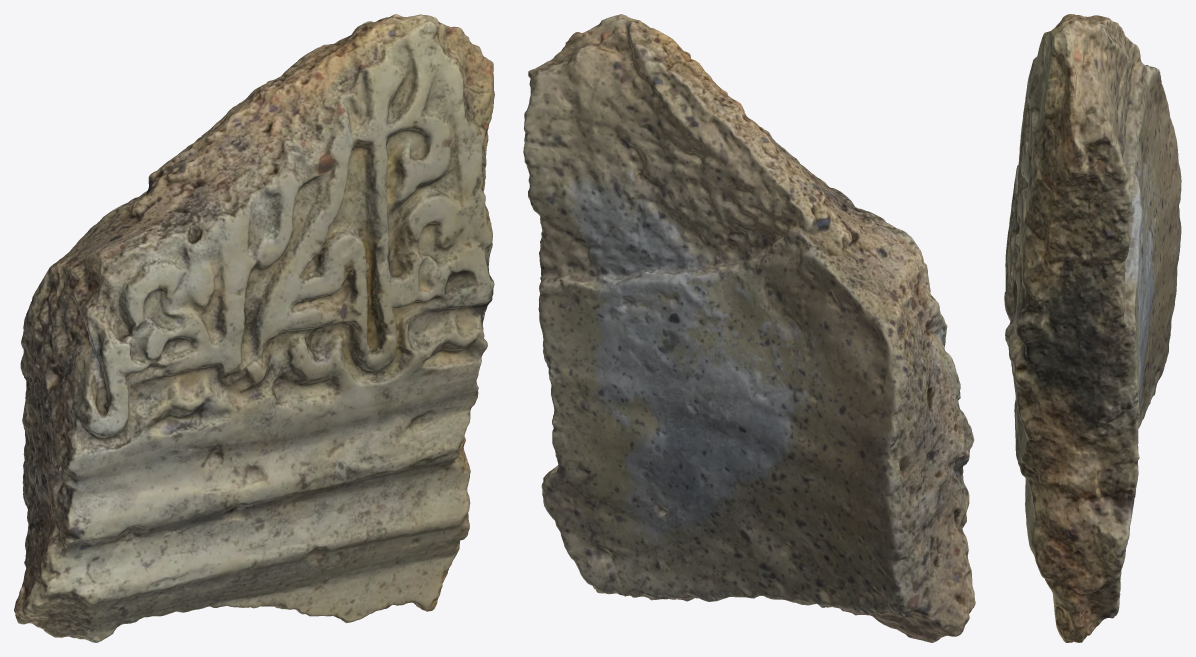
File: preview.glb
3 views of the same model, side by side, from view 1: azimuth 30°, elevation 25°; view 2: azimuth 150°, elevation 25°; view 3: azimuth 270°, elevation 25° (orthographic). The views are drawn at different scales.
Visible parts, largest first — view 1: Object_2; view 2: Object_2; view 3: Object_2.
Boxes of the visible parts, x1,y1,x2,y2 form: Object_2: (14, 14, 494, 642); Object_2: (523, 14, 975, 642); Object_2: (1004, 14, 1181, 642).
Size of the model in its own units: 0.0913 by 0.1133 by 0.03.
Materials: 1 (1 with a texture image).
